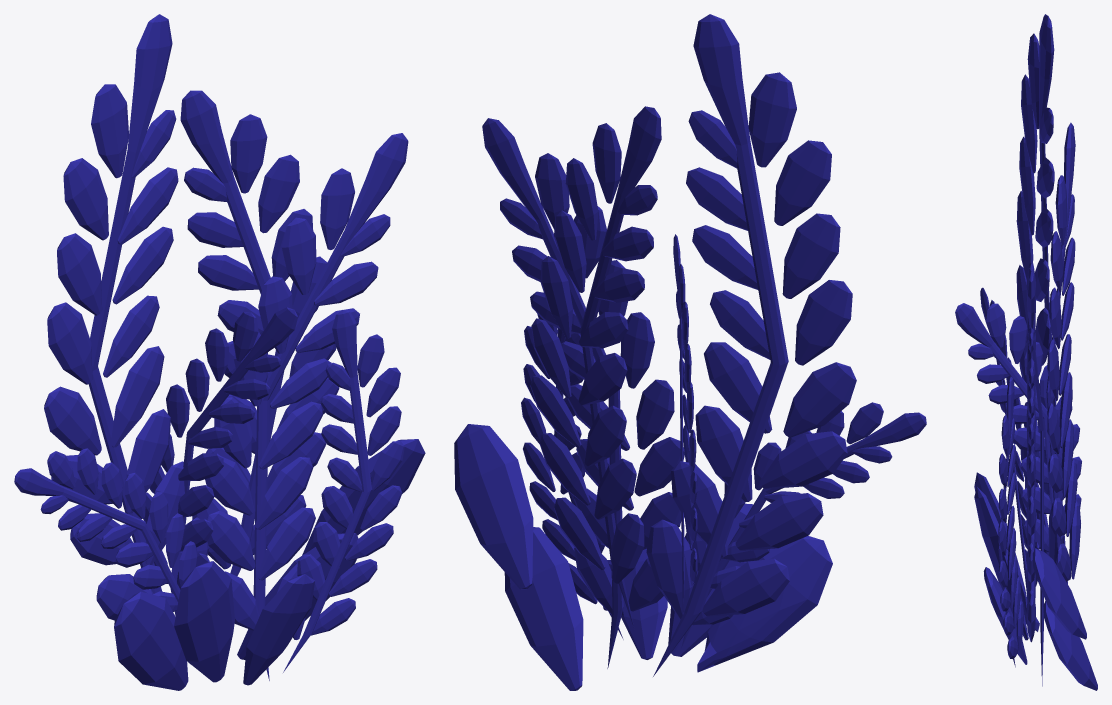
3 views of the same model, side by side, from view 1: azimuth 30°, elevation 25°; view 2: azimuth 150°, elevation 25°; view 3: azimuth 270°, elevation 25° (orthographic). The views are drawn at different scales.
Visible parts, largest first — view 1: Sphere.001, Sphere, Sphere.005, Sphere.004, Sphere.003, Sphere.002, Sphere.007, Sphere.006, Sphere.010, Sphere.008, Sphere.009; view 2: Sphere.001, Sphere.005, Sphere, Sphere.008, Sphere.002, Sphere.009, Sphere.006, Sphere.004, Sphere.003, Sphere.010, Sphere.007; view 3: Sphere.005, Sphere.001, Sphere.003, Sphere, Sphere.004, Sphere.008, Sphere.009, Sphere.002, Sphere.007, Sphere.010, Sphere.006.
Part boxes in pixels (x1,y1,x2,y2): Sphere.001: [44, 14, 209, 664]; Sphere: [205, 133, 408, 680]; Sphere.005: [180, 90, 339, 576]; Sphere.004: [283, 310, 404, 672]; Sphere.003: [143, 307, 297, 589]; Sphere.002: [14, 448, 197, 611]; Sphere.007: [174, 561, 234, 682]; Sphere.006: [114, 591, 188, 690]; Sphere.010: [243, 574, 314, 685]; Sphere.008: [302, 439, 425, 555]; Sphere.009: [237, 533, 358, 659]; Sphere.001: [646, 14, 856, 676]; Sphere.005: [530, 106, 661, 628]; Sphere: [482, 118, 684, 668]; Sphere.008: [454, 424, 533, 589]; Sphere.002: [681, 402, 926, 647]; Sphere.009: [504, 527, 583, 690]; Sphere.006: [697, 536, 832, 672]; Sphere.004: [521, 313, 623, 639]; Sphere.003: [673, 234, 697, 614]; Sphere.010: [621, 548, 667, 659]; Sphere.007: [668, 503, 752, 656]; Sphere.005: [1046, 122, 1080, 581]; Sphere.001: [1016, 14, 1067, 583]; Sphere.003: [955, 303, 1081, 551]; Sphere: [1026, 262, 1043, 686]; Sphere.004: [998, 376, 1024, 667]; Sphere.008: [1032, 548, 1086, 639]; Sphere.009: [1043, 601, 1097, 690]; Sphere.002: [980, 287, 1039, 593]; Sphere.007: [974, 487, 1028, 640]; Sphere.010: [983, 567, 1027, 664]; Sphere.006: [974, 472, 1039, 631].
Size of the model in its own units: 161 by 240 by 49.69.
